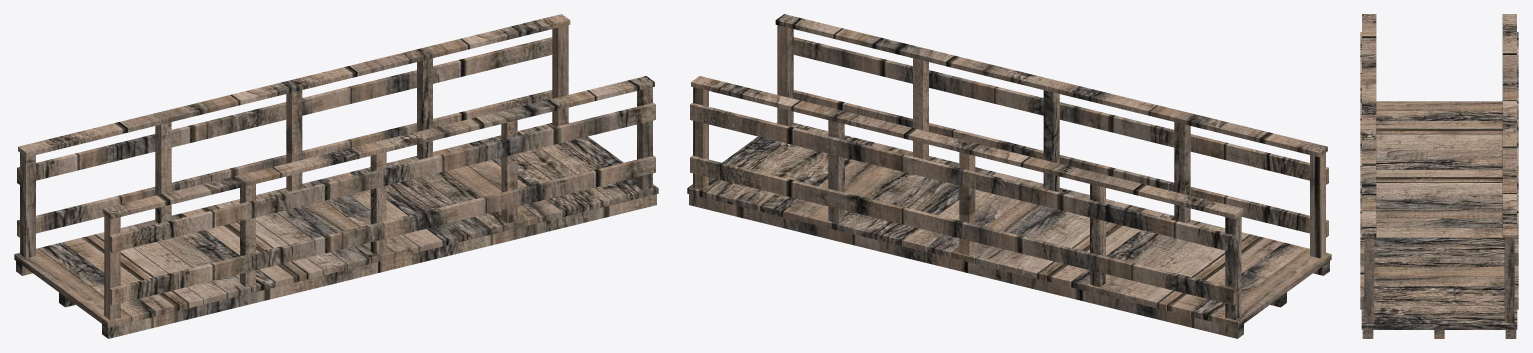
Rendered from ponte1.fbx.
3 views of the same model, side by side, from view 1: azimuth 30°, elevation 25°; view 2: azimuth 150°, elevation 25°; view 3: azimuth 270°, elevation 25° (orthographic). The views are drawn at different scales.
Visible parts, largest first — view 1: AC_BCStraight.Shape; view 2: AC_BCStraight.Shape; view 3: AC_BCStraight.Shape.
Part boxes in pixels (x1,y1,x2,y2): AC_BCStraight.Shape: [14, 14, 658, 338]; AC_BCStraight.Shape: [687, 14, 1331, 338]; AC_BCStraight.Shape: [1360, 14, 1518, 338].
Bounding box in the file's own units: 486 × 104 × 145.
Materials: 5 (5 with a texture image).
